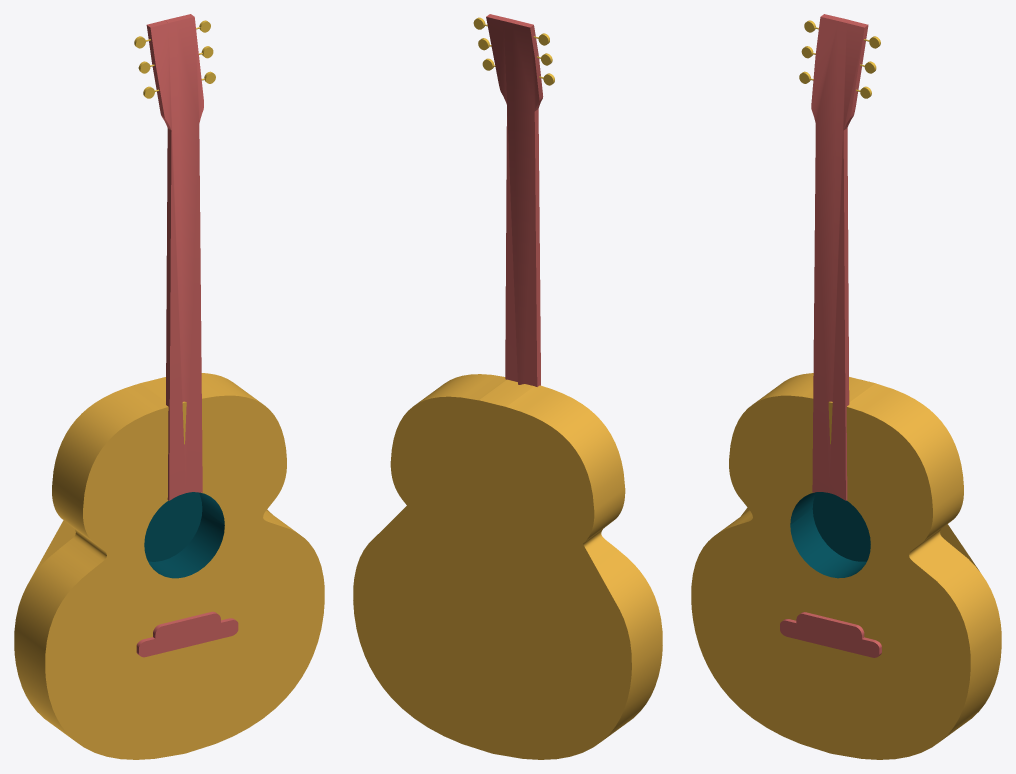
File: acoustic guitar.fbx
The picture shows the model from 3 angles, left to right: view 1: azimuth 30°, elevation 25°; view 2: azimuth 150°, elevation 25°; view 3: azimuth 330°, elevation 25°; orthographic projection.
Visible parts, largest first — view 1: guitar; view 2: guitar; view 3: guitar.
Part boxes in pixels (x1,y1,x2,y2): guitar: (14, 14, 324, 759); guitar: (353, 14, 662, 759); guitar: (691, 14, 1001, 759).
Bounding box in the file's own units: 82.44 × 204 × 17.11.
